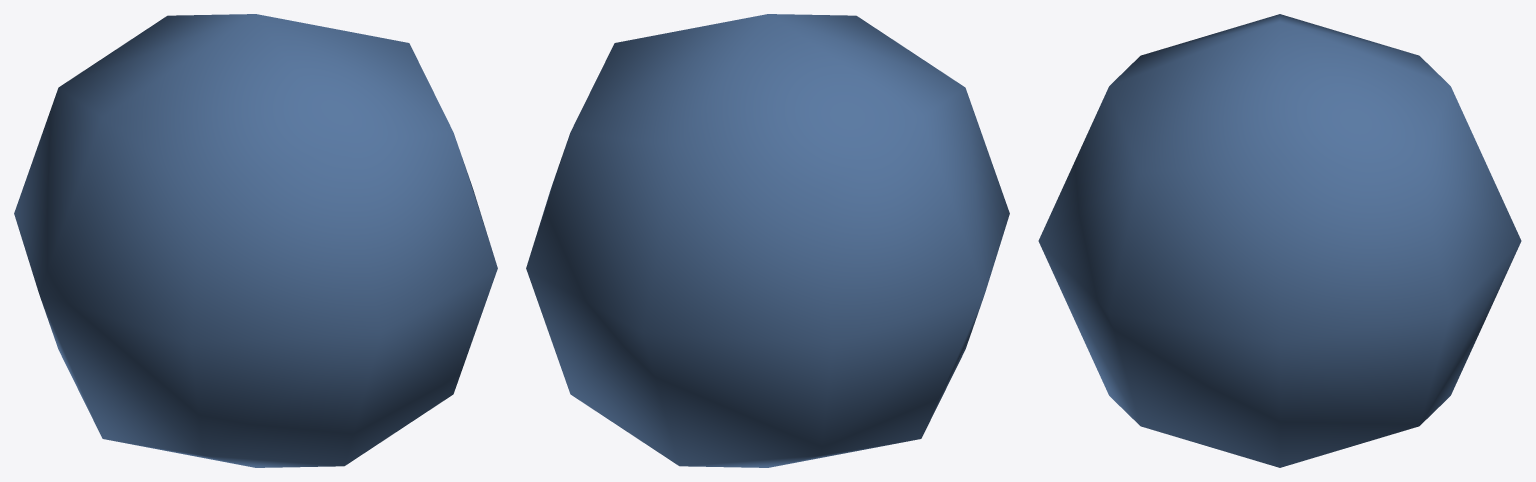
Rendered from iadro_pushka.fbx.
3 views of the same model, side by side, from view 1: azimuth 30°, elevation 25°; view 2: azimuth 150°, elevation 25°; view 3: azimuth 270°, elevation 25° (orthographic). The views are drawn at different scales.
Visible parts, largest first — view 1: wSphere.001; view 2: wSphere.001; view 3: wSphere.001.
Part boxes in pixels (x1,y1,x2,y2): wSphere.001: (14,14,497,467); wSphere.001: (526,14,1009,467); wSphere.001: (1038,14,1521,467).
Size of the model in its own units: 156 by 156 by 156.
